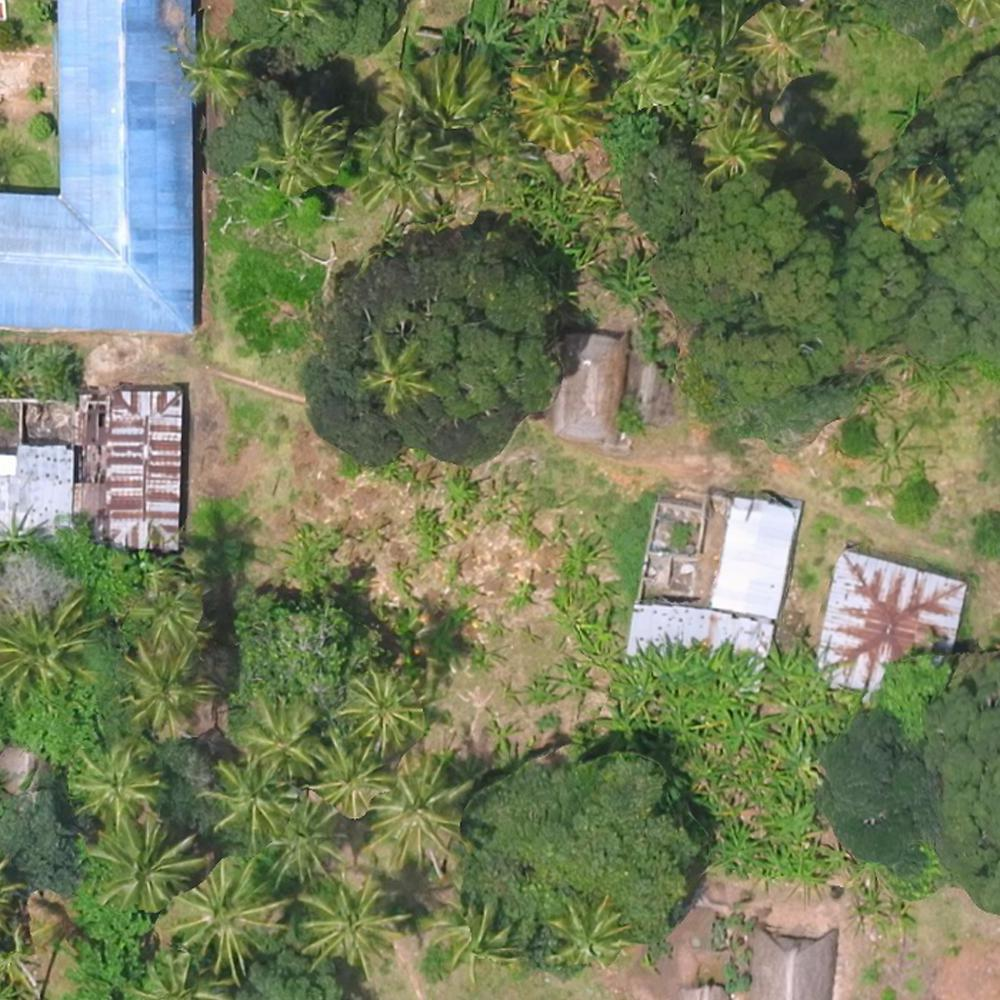Palm: (170, 858, 283, 974), (368, 755, 467, 862), (95, 813, 202, 908), (298, 881, 409, 966), (5, 601, 93, 693), (205, 756, 299, 842), (118, 650, 212, 735), (509, 65, 601, 151), (266, 102, 349, 189), (308, 736, 396, 818), (66, 745, 157, 821), (331, 668, 420, 744), (236, 696, 319, 777), (545, 896, 634, 963), (692, 105, 772, 175), (743, 5, 824, 74), (171, 33, 245, 107), (881, 167, 958, 234), (364, 338, 437, 407)
